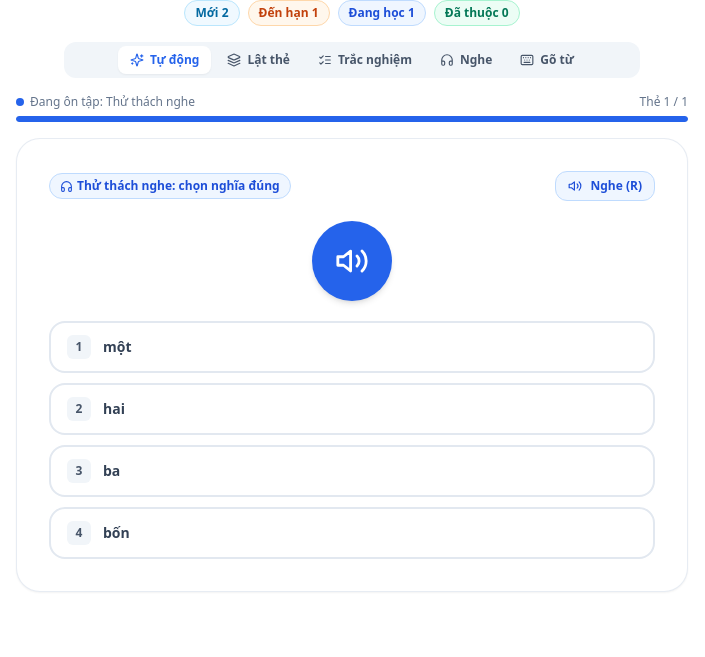
Test: StudyMode: listening › hides the word until answered and autoplays the audio
This screenshot has width=705, height=657.
Expected: the text "term1" is not shown
Click the button "1 một" at (79, 347), box left=49, top=321, right=655, bottom=373
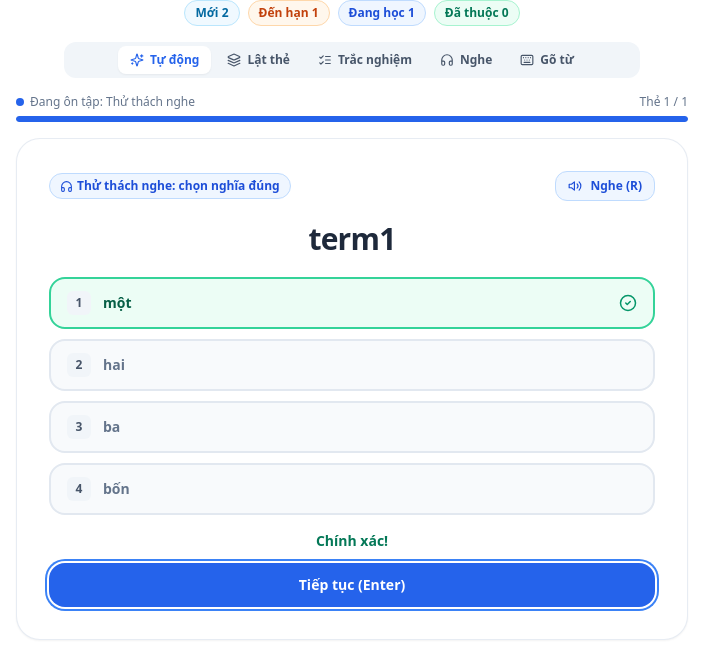
Expected: the heading "term1" is shown, left=308, top=218, right=396, bottom=259
